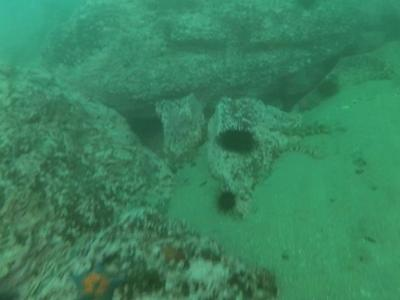holothurian: (274, 139, 324, 161), (282, 119, 333, 138)
urchin: (213, 126, 255, 155), (216, 185, 240, 217)
